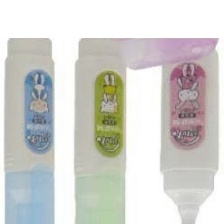correction_fluid: (156, 40, 221, 224), (73, 33, 129, 224), (2, 31, 57, 224)
